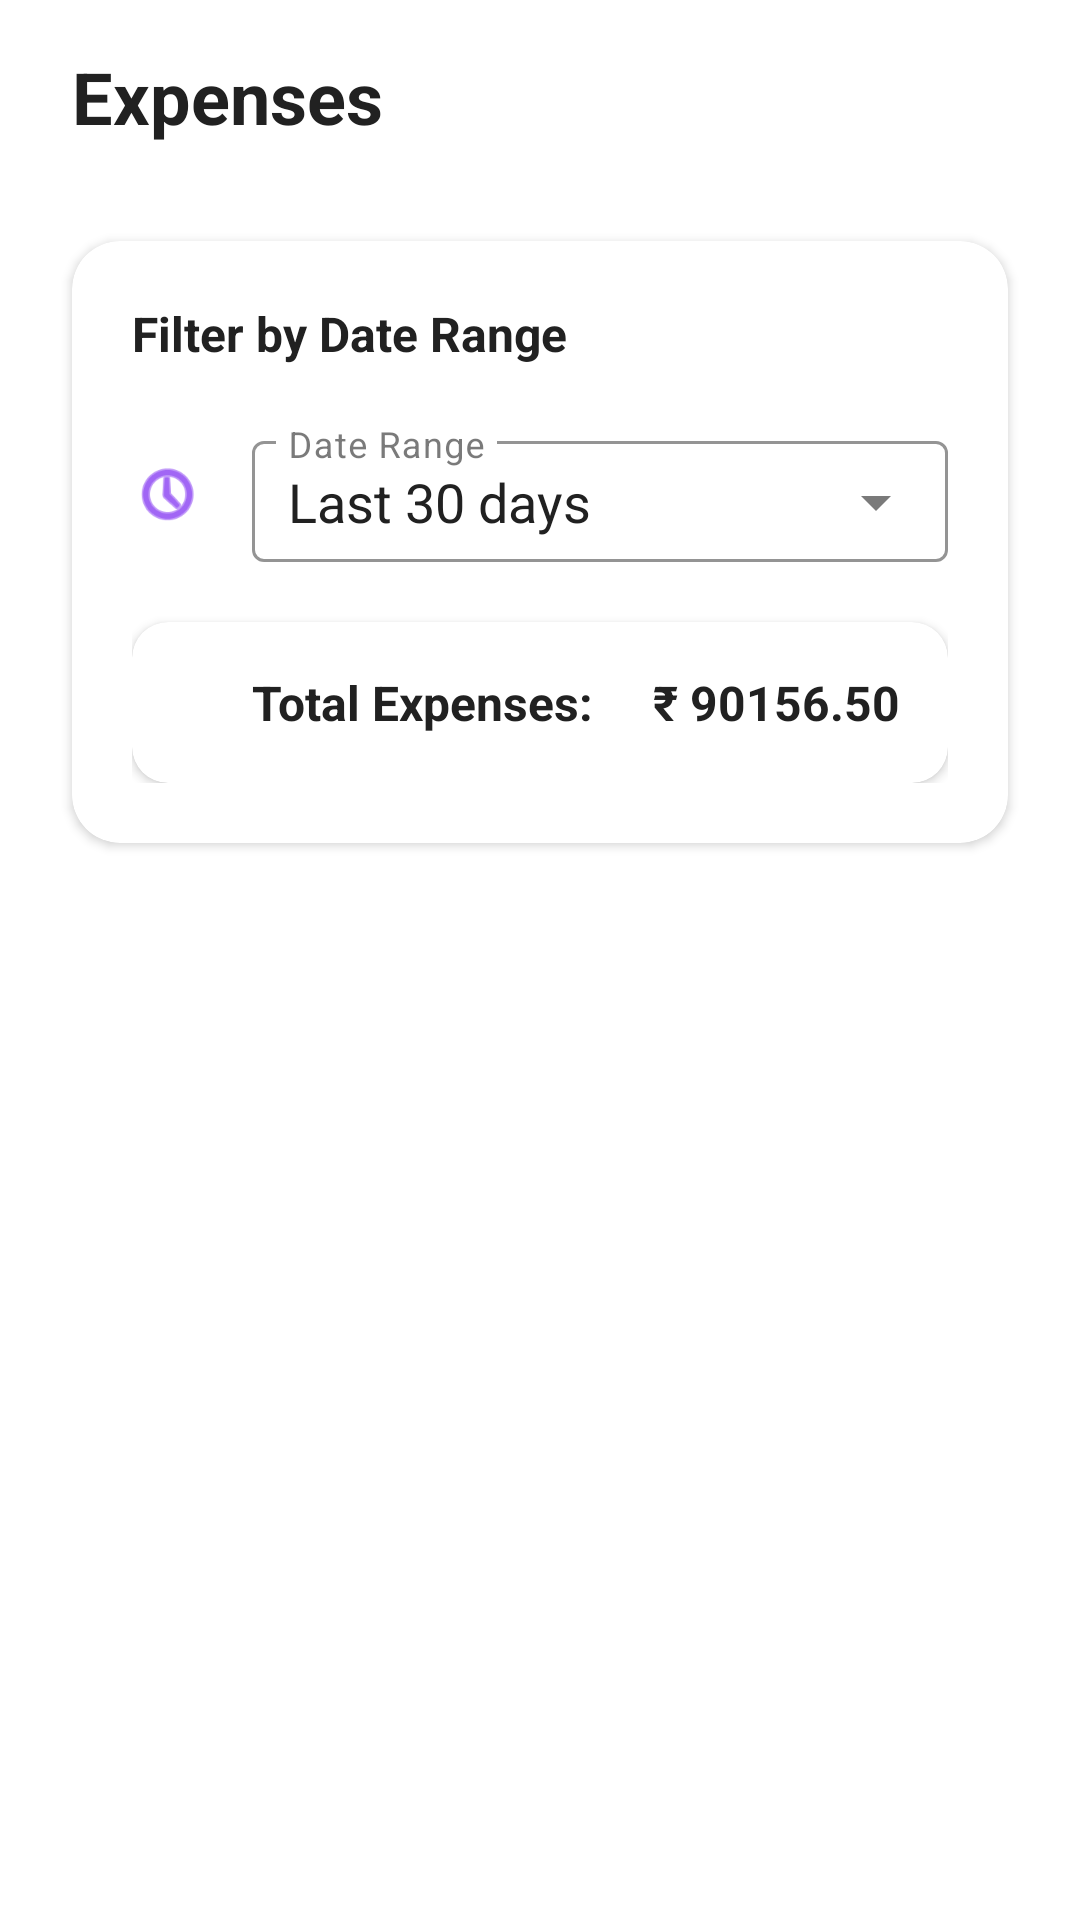

Where to tap for icons on this 1080*1920 app screen, as (x=x, y=y):
recent history: (x=167, y=494)
